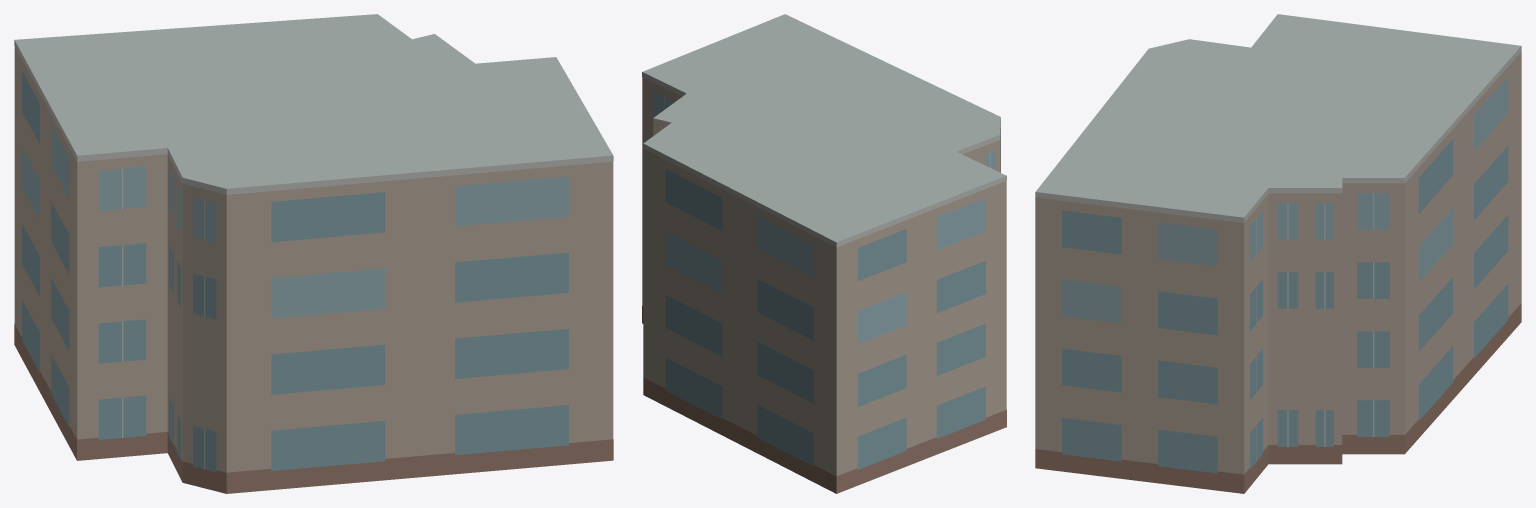
Rendered from survey-upis-32477982.glb.
3 renders of one model, left to right at view 1: azimuth 30°, elevation 25°; view 2: azimuth 150°, elevation 25°; view 3: azimuth 270°, elevation 25°, orthographic. The views are drawn at different scales.
Parts seen in each view (by area): view 1: survey-upis-32477982.tmp; view 2: survey-upis-32477982.tmp; view 3: survey-upis-32477982.tmp.
Part boxes in pixels (x1,y1,x2,y2): survey-upis-32477982.tmp: (14,14,613,493); survey-upis-32477982.tmp: (642,14,1006,493); survey-upis-32477982.tmp: (1035,14,1521,493).
Size of the model in its own units: 19.29 by 12.2 by 19.47.
